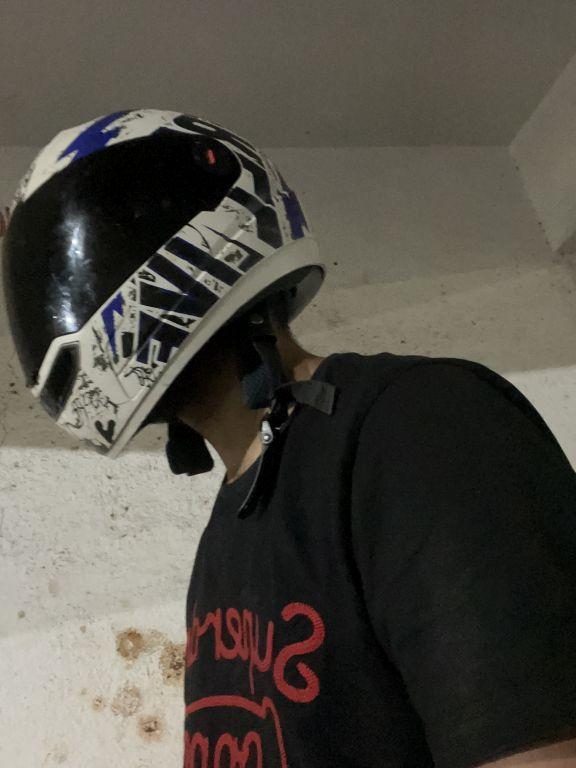helmet: (0, 94, 337, 471)
